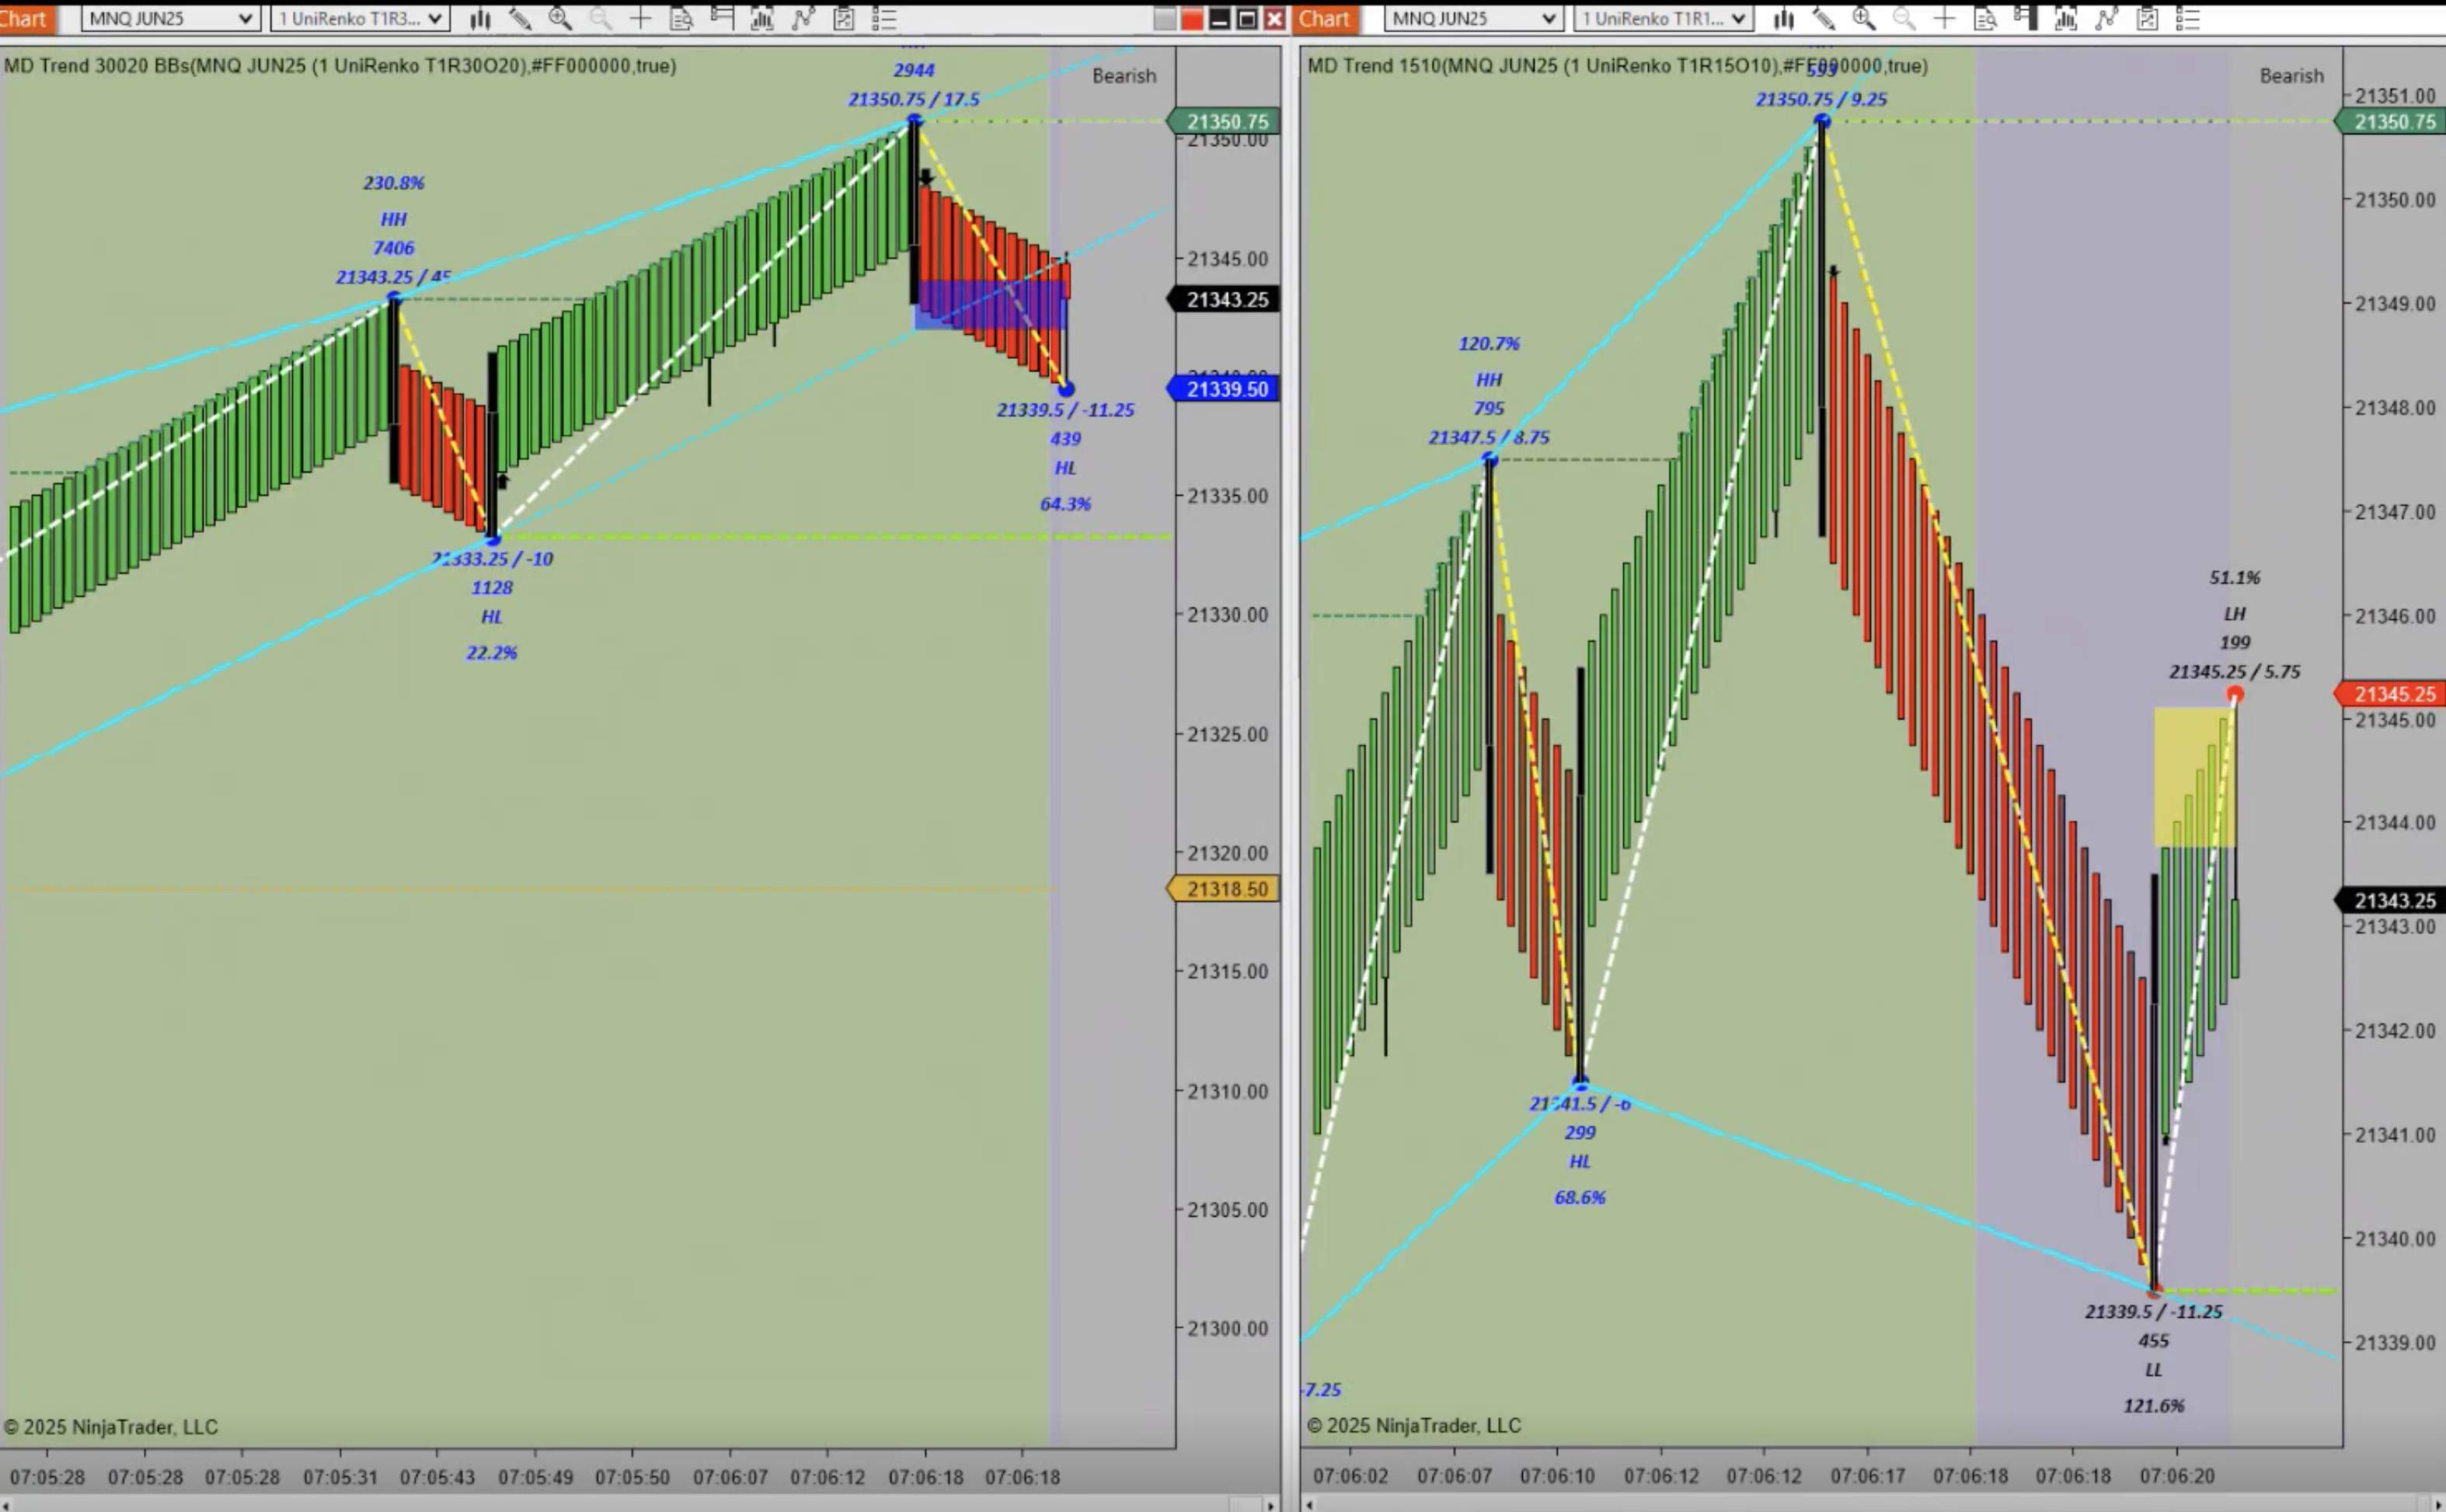candle: (1574, 657, 1593, 1085), (1483, 453, 1501, 872), (1815, 114, 1831, 545), (2149, 867, 2165, 1295), (386, 290, 411, 498), (484, 344, 507, 547), (905, 114, 922, 318)
